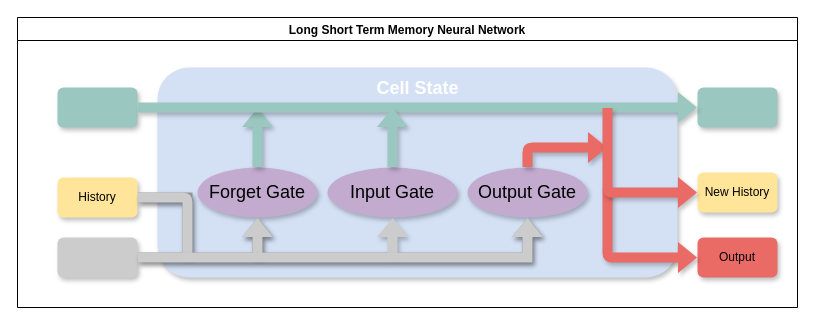
This 815x325 diagram has some shape labels left out. The centre of each missing label's shape, as x and y in pixels:
Inputs: the point at 98,258
New Cell State: the point at 738,108
Previous Cell State: the point at 98,108
